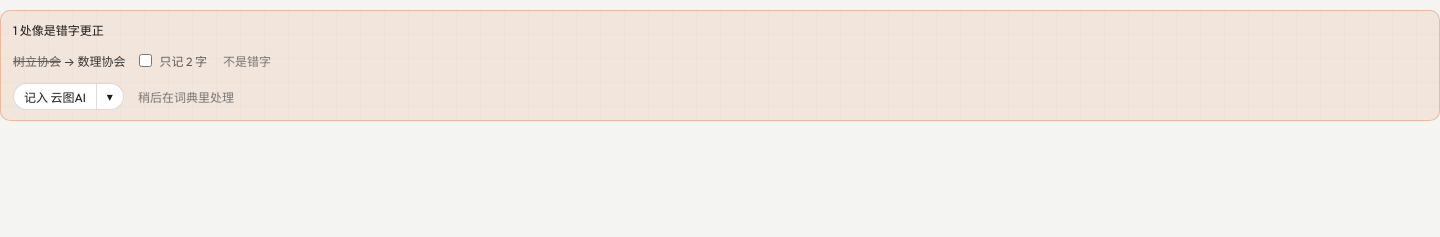
Test case: 编辑器下方的错字更正提示条 › ▾ 里改记到公共或别的项目；勾「只记 2 字」记原来那一对
What coordinates should you click on to do the following:
click the checkbox labelled "只记 2 字"
I would click on:
 (146, 60)
Its box is [140,54,152,66].
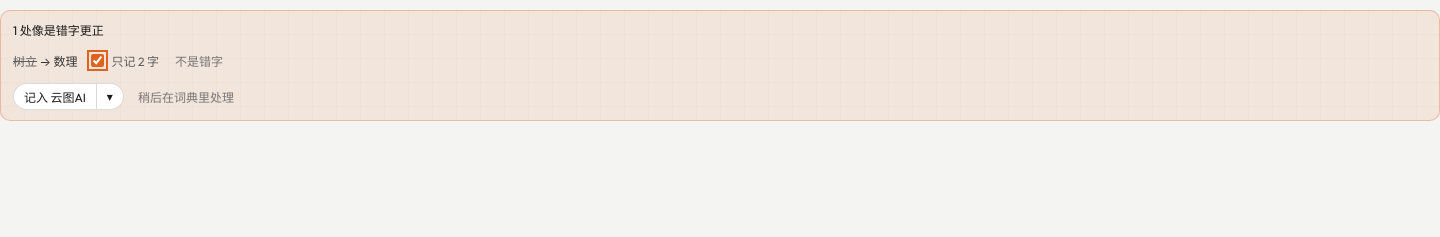
Expected: the text "树立" is shown, [13,54,37,68]
What coordinates should you click on to do the following:
click the button named "改记到别处"
I would click on:
 (110, 96)
Its box is [96,82,124,110].
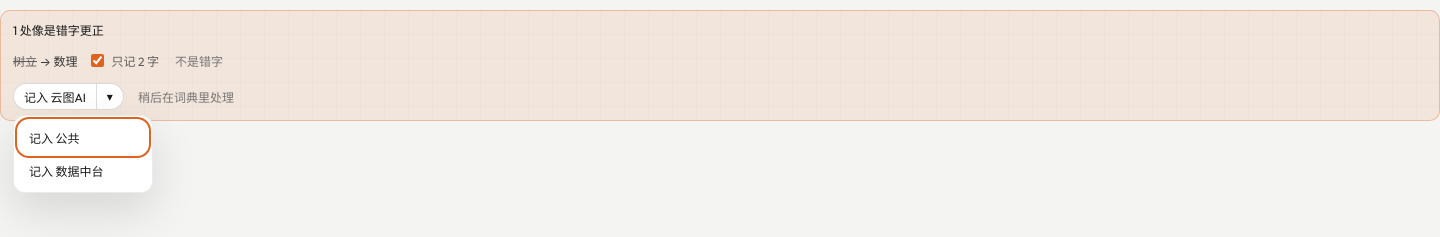
Now the menu items read "记入 公共", "记入 数据中台", in this order
What coordinates should you click on to do the following:
click the menu item "记入 公共"
I would click on:
 (83, 137)
Its box is [19,120,147,154].
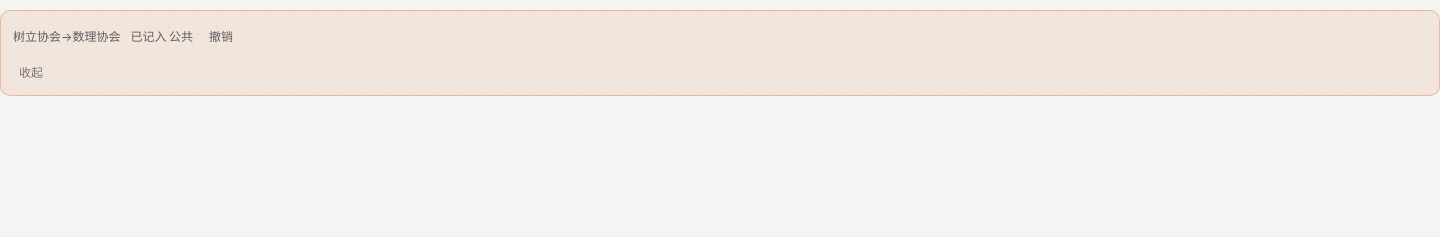
Now the text "已记入 公共" is shown, box [130,26,193,44]
